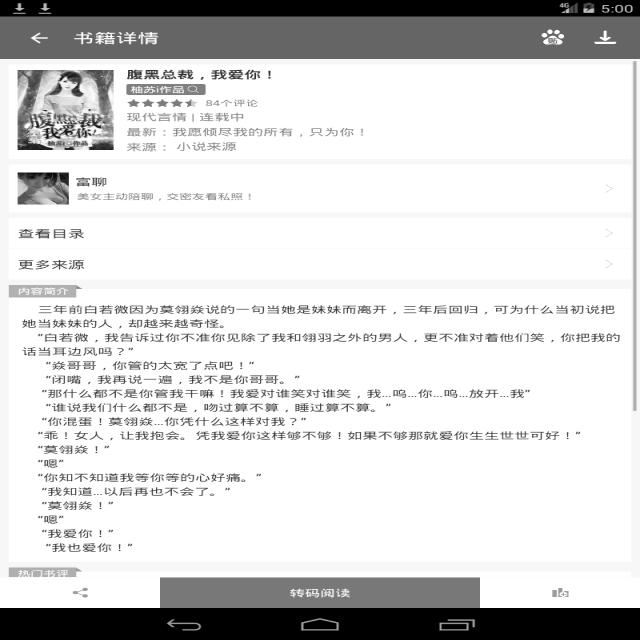Button: (155, 579, 482, 609)
ImageButton: (522, 29, 568, 51), (590, 26, 624, 54), (542, 584, 580, 602), (27, 30, 50, 50), (68, 589, 91, 601)
ImageView: (12, 71, 119, 155), (11, 168, 66, 204)
RatingBar: (112, 97, 271, 107)
TextView: (33, 387, 580, 453), (15, 300, 630, 354), (32, 458, 269, 548), (122, 109, 368, 149), (39, 361, 311, 383), (72, 177, 262, 207), (120, 67, 266, 97), (68, 26, 162, 46), (14, 254, 86, 270), (19, 225, 91, 239), (1, 565, 80, 577), (12, 284, 86, 296)
